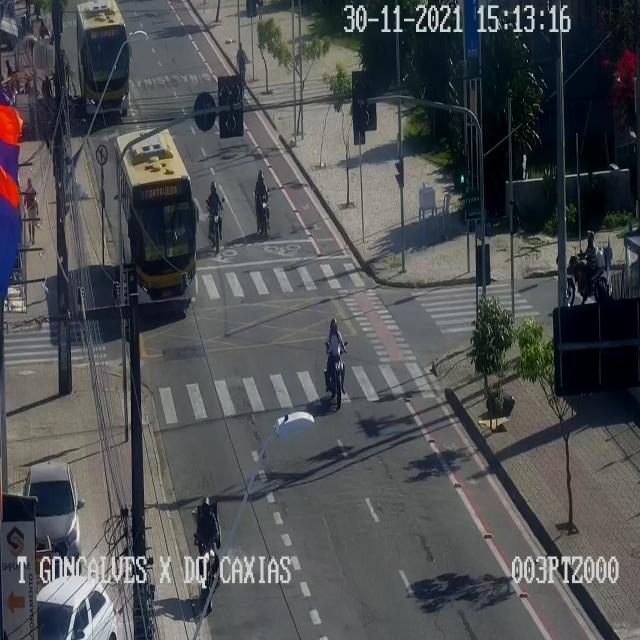Bus: (116, 128, 196, 303), (76, 1, 132, 116)
Car: (25, 463, 81, 573), (36, 575, 117, 639)
Motorcycle: (566, 230, 608, 306), (194, 497, 221, 609), (326, 318, 346, 406), (207, 180, 224, 252), (255, 169, 271, 235)
